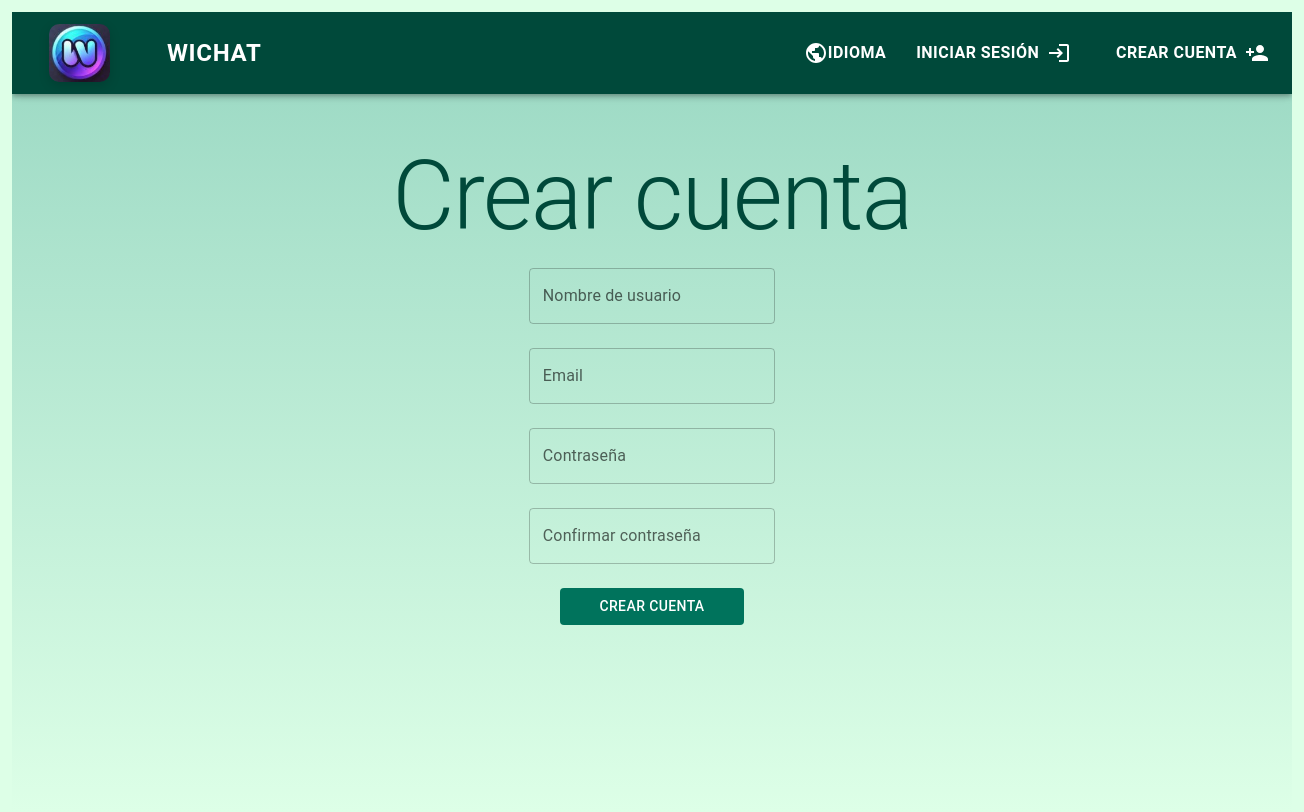
AddUser component › should show error if passwords do not match
Type "newuser" into the field with test id "username-input".
click(652, 296); type("newuser")  # box [529,268,775,324]
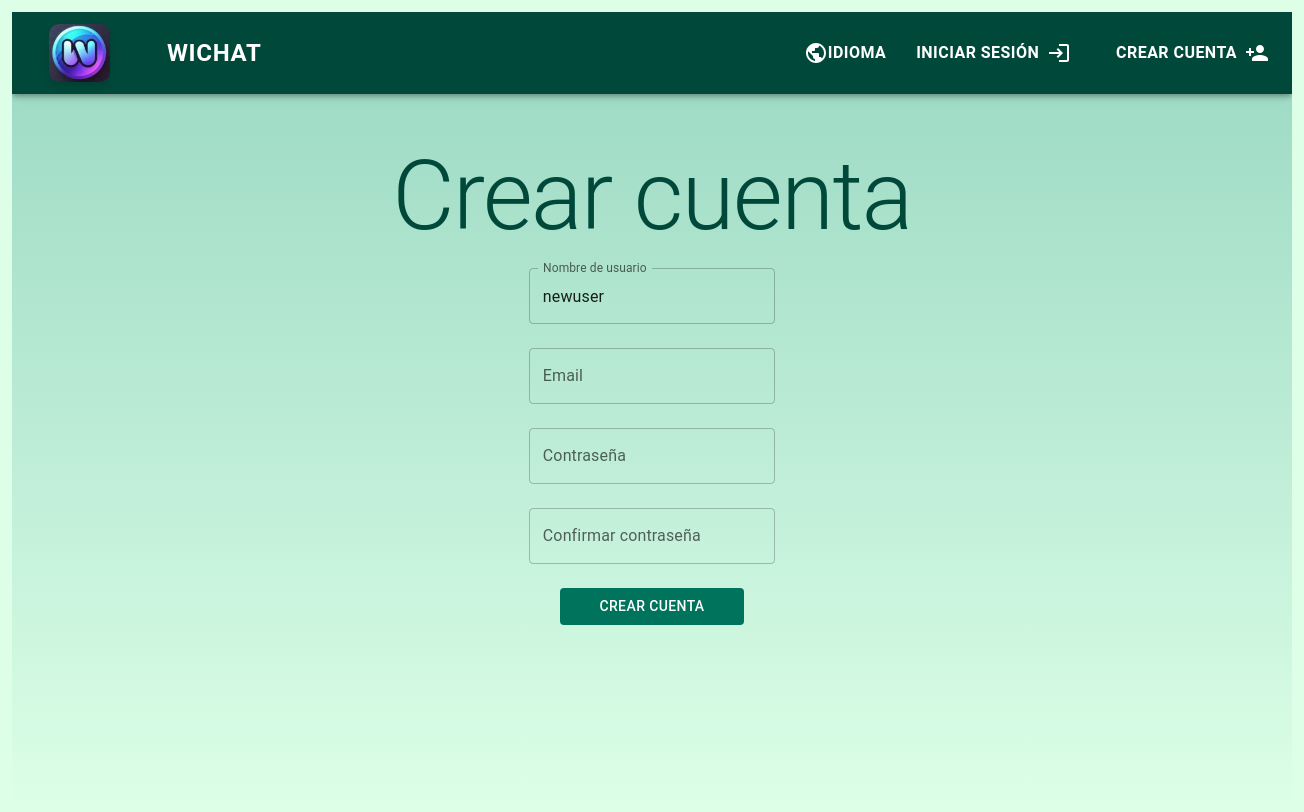
Type "test@example.com" into the field with test id "email-input".
click(652, 376); type("test@example.com")  # box [529,348,775,404]
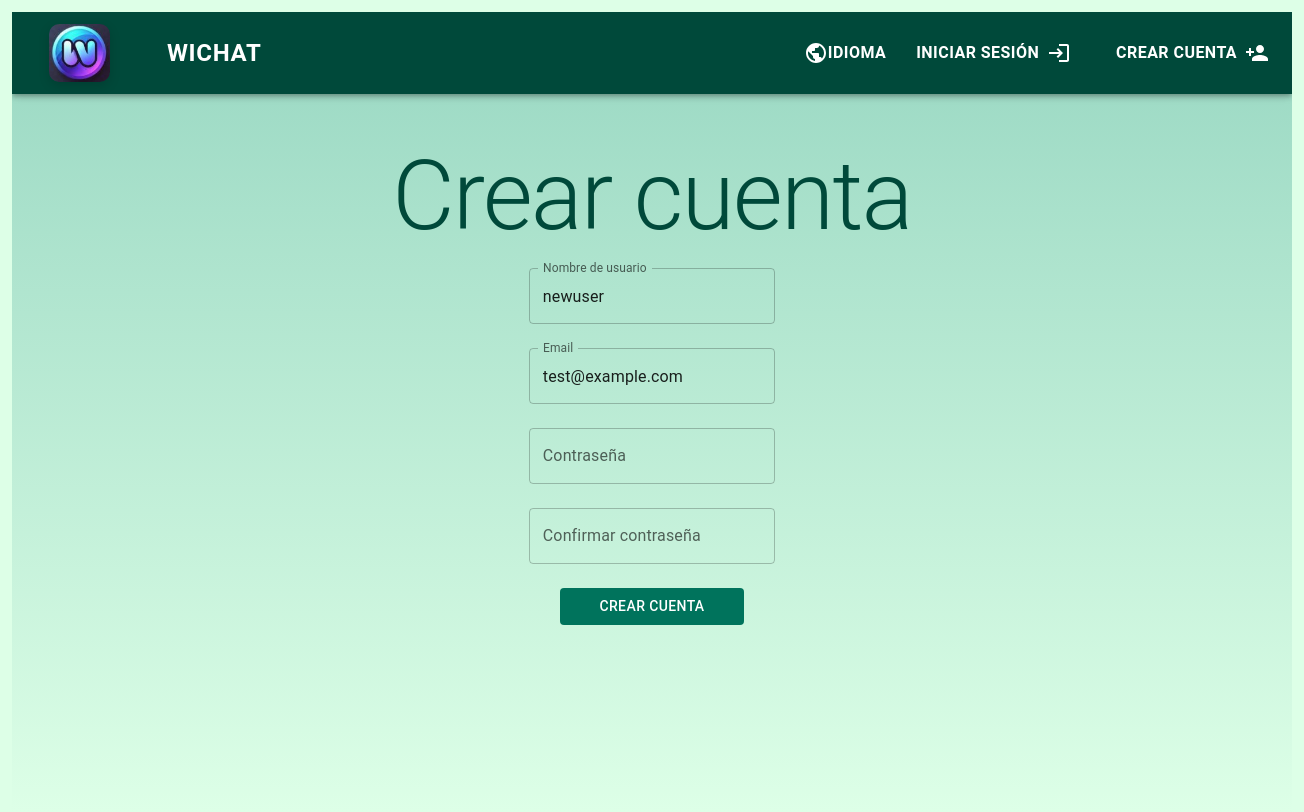
Type "Testpass1" into the password field with test id "password-input".
click(652, 456); type("Testpass1")  # box [529,428,775,484]
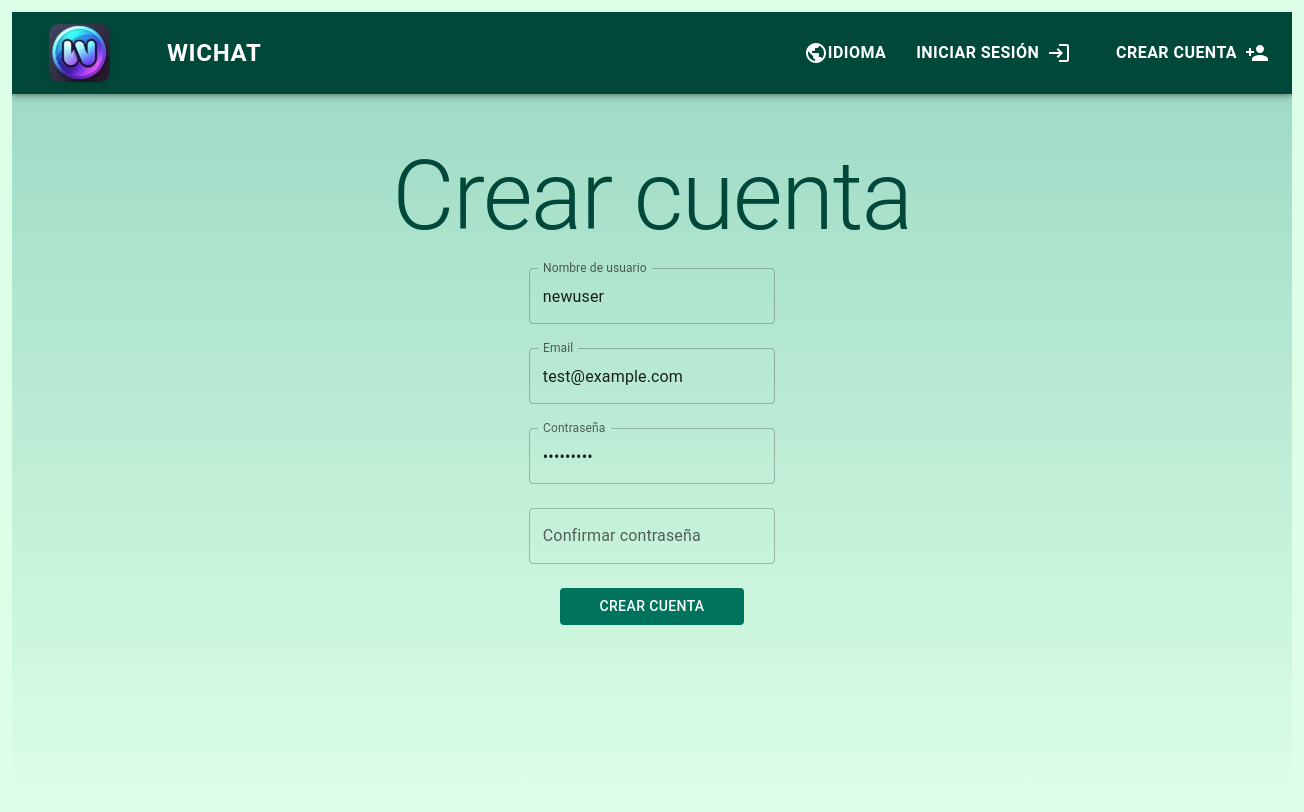
Type "differentpass" into the password field with test id "confirm-password-input".
click(652, 536); type("differentpass")  # box [529,508,775,564]
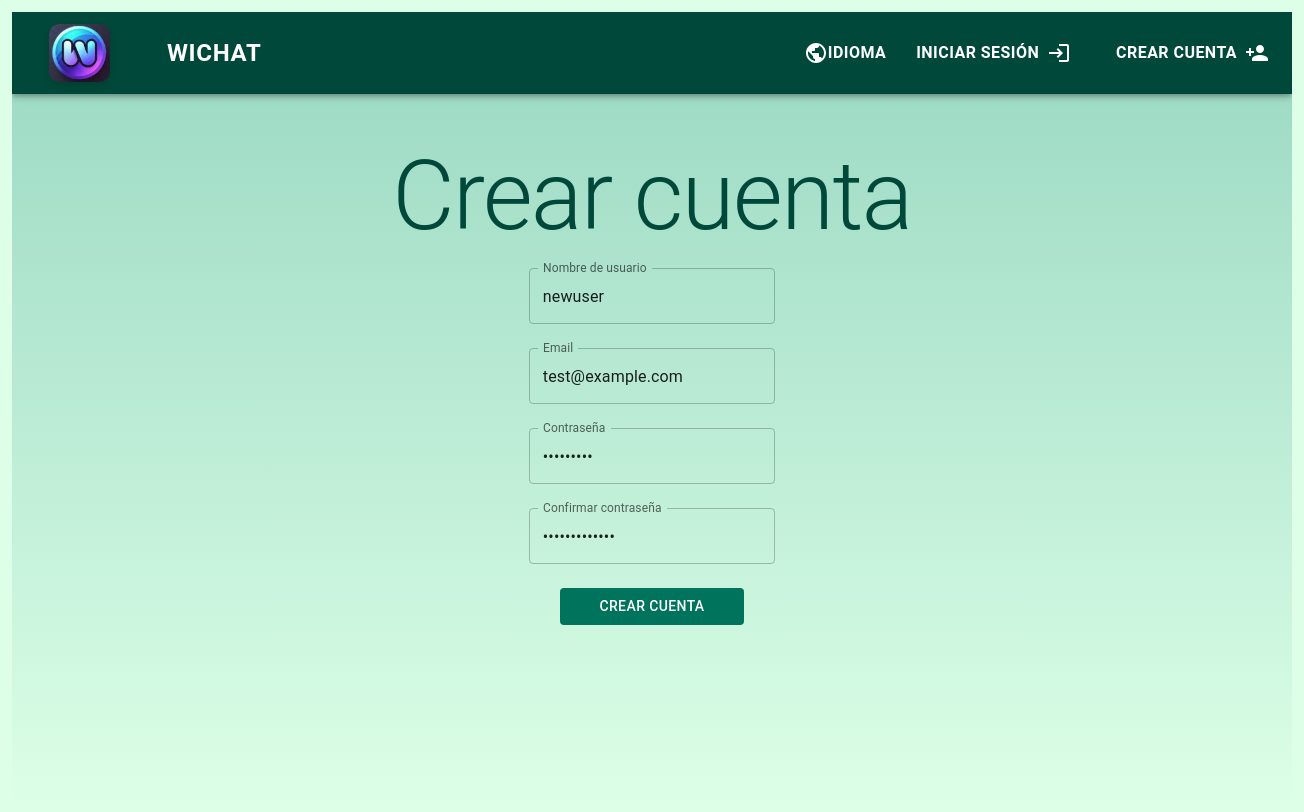
Click the button with test id "signup-button".
click(652, 606)  # box [560,588,744,624]
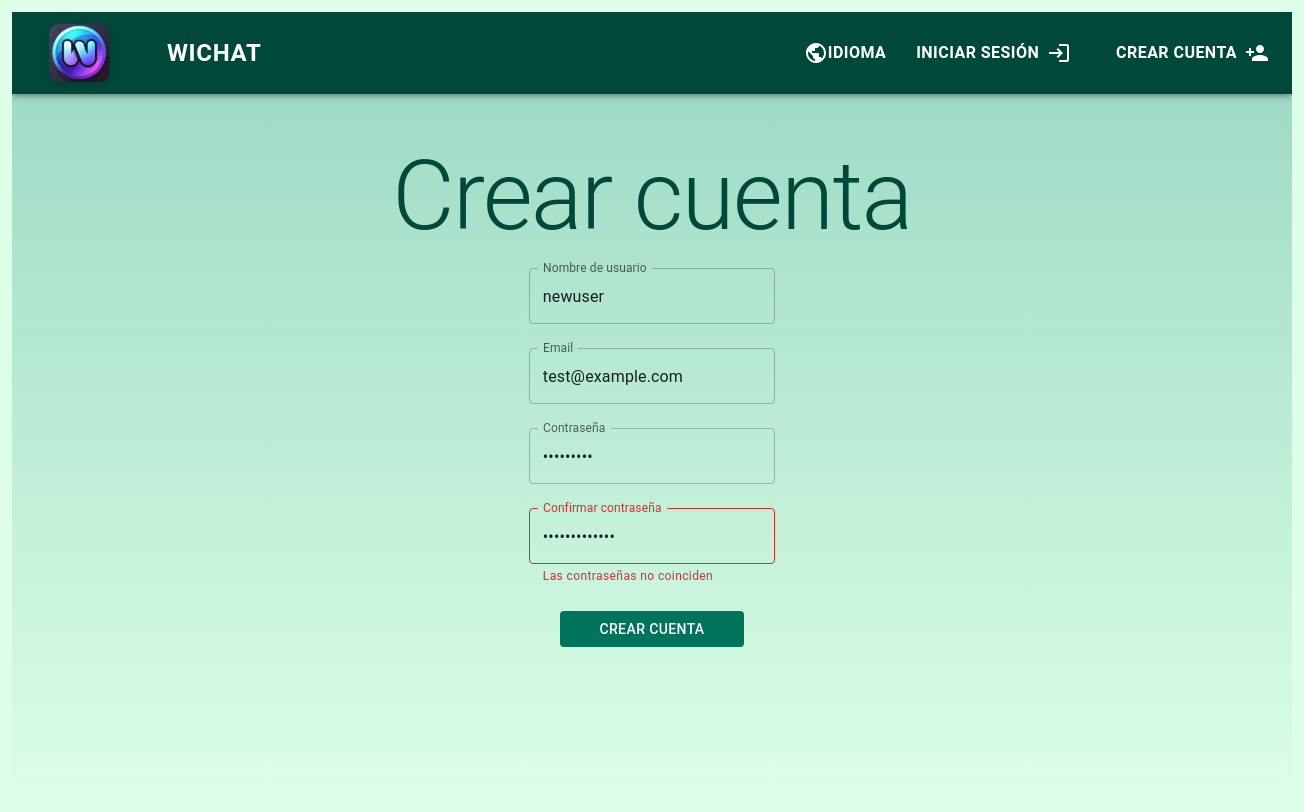
Now the text "Las contraseñas no coinciden" is shown, box [543,569,713,583]
